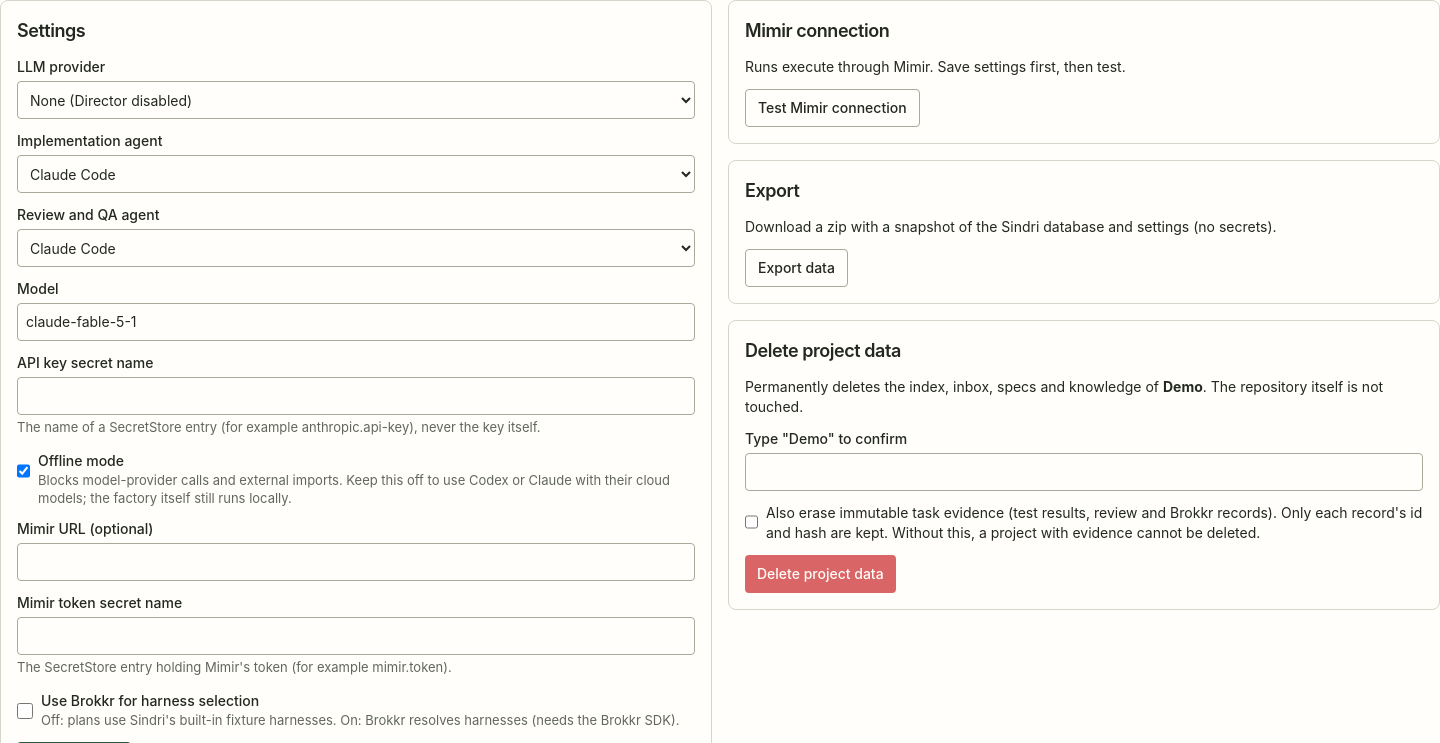
SettingsScreen › erases task evidence only when the option is checked and separately confirmed
Step 1. Type "Demo" into the field labelled "Type \"Demo\" to confirm" → (1084, 472), box [745,453,1423,491]
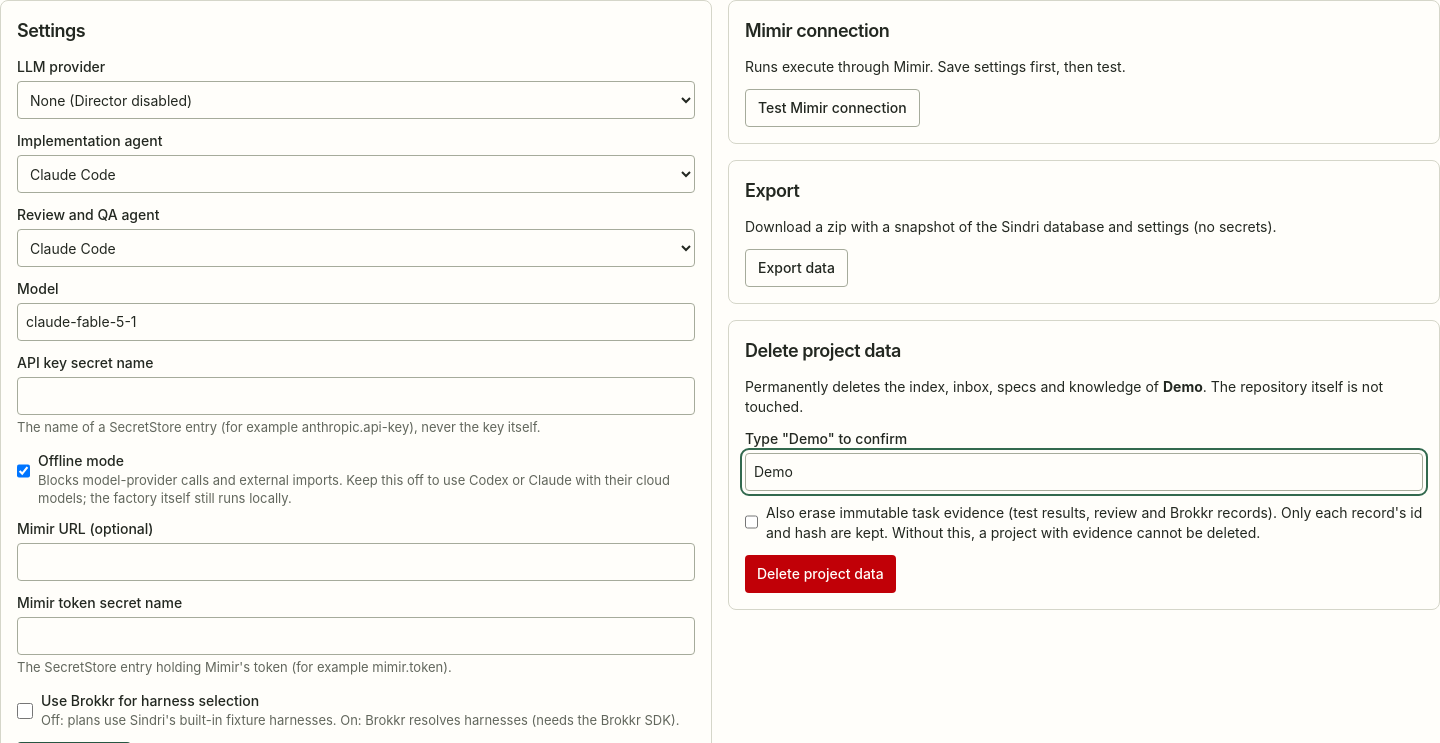
Expected: the field labelled "Type ERASE EVIDENCE to confirm" is not shown
Step 2. Click the checkbox labelled "Also erase immutable task evidence" → (752, 522), box [745,503,758,541]
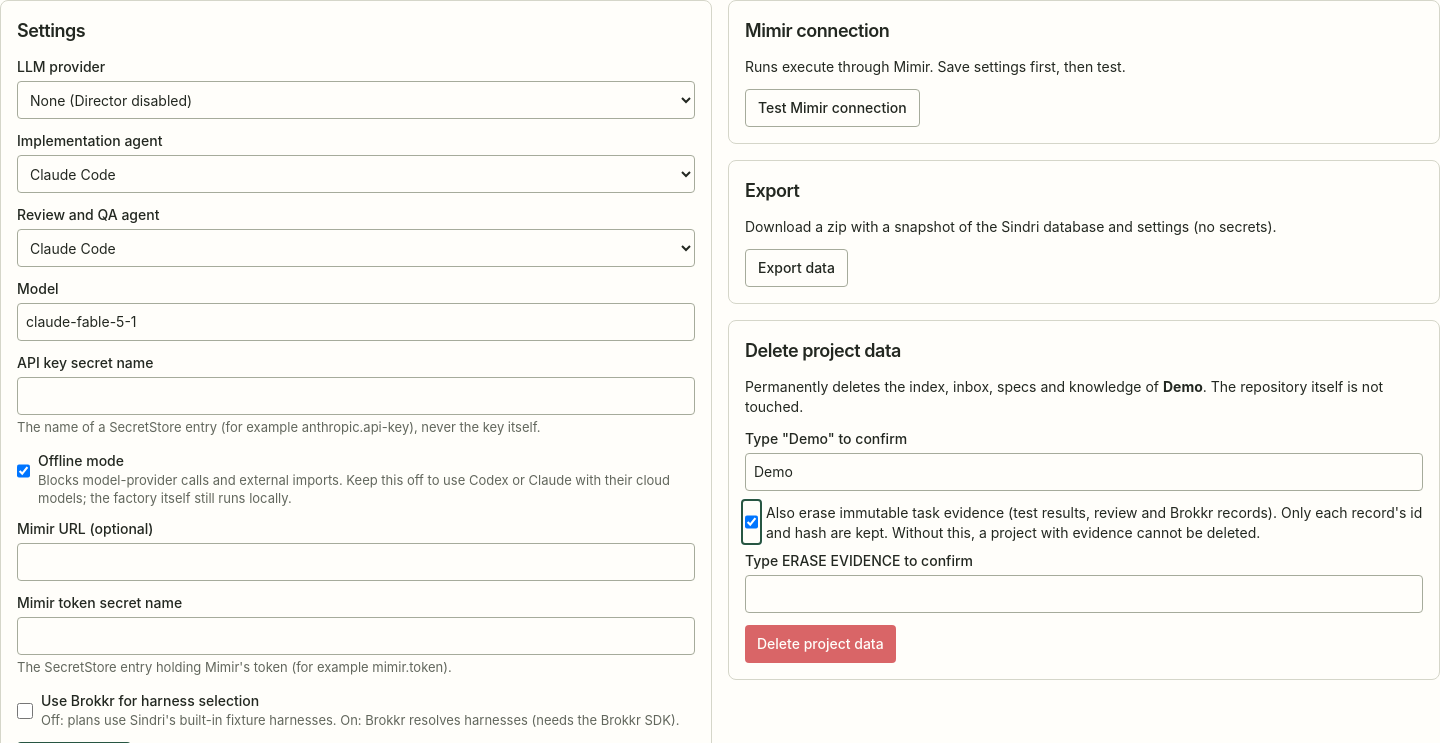
Expected: the button "Delete project data" is disabled, [745,625,896,663]
Step 3. Type "ERASE EVIDENCE" into the field labelled "Type ERASE EVIDENCE to confirm" → (1084, 594), box [745,575,1423,613]
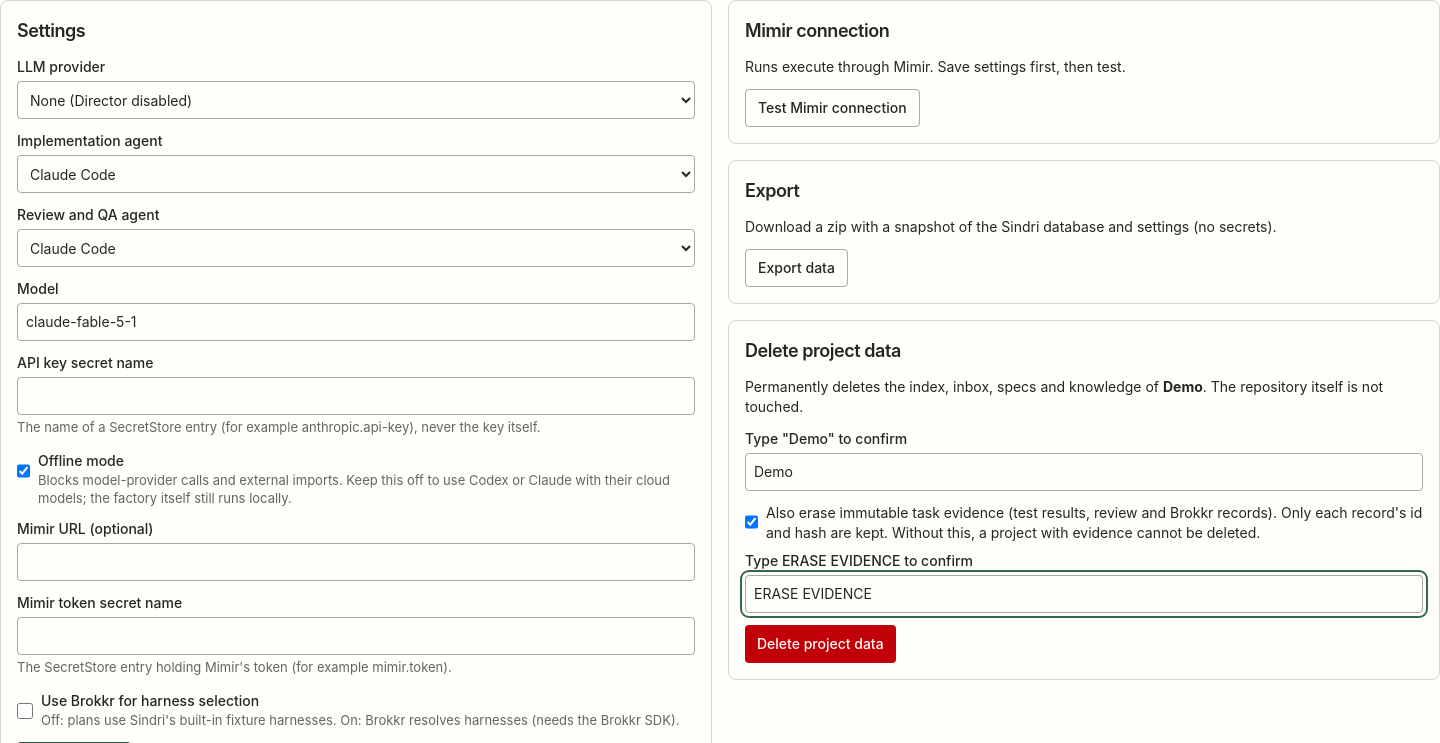
Expected: the button "Delete project data" is enabled
Step 4. Click the button "Delete project data" → (820, 644), box [745,625,896,663]
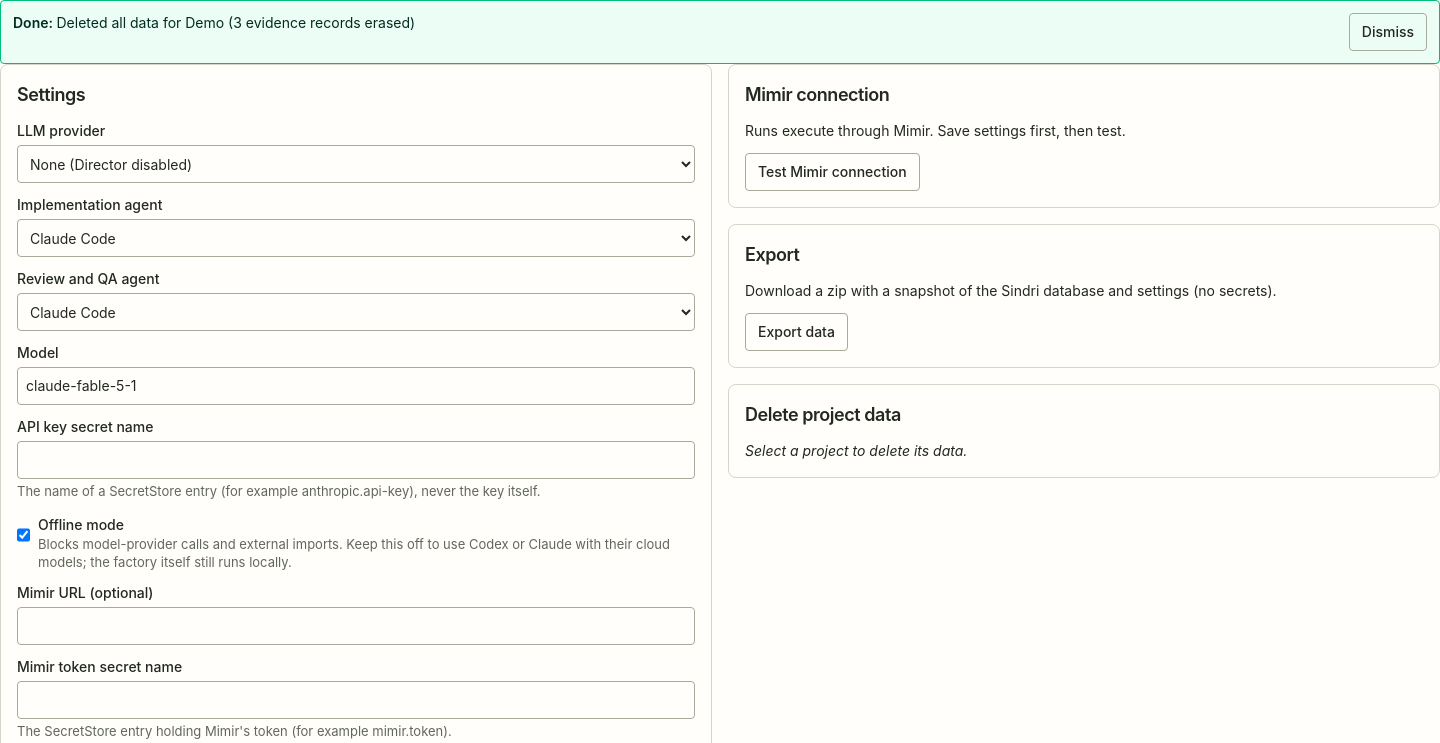
Expected: the message shows "Deleted all data for Demo (3 evidence records erased)", [56,14,415,31]
